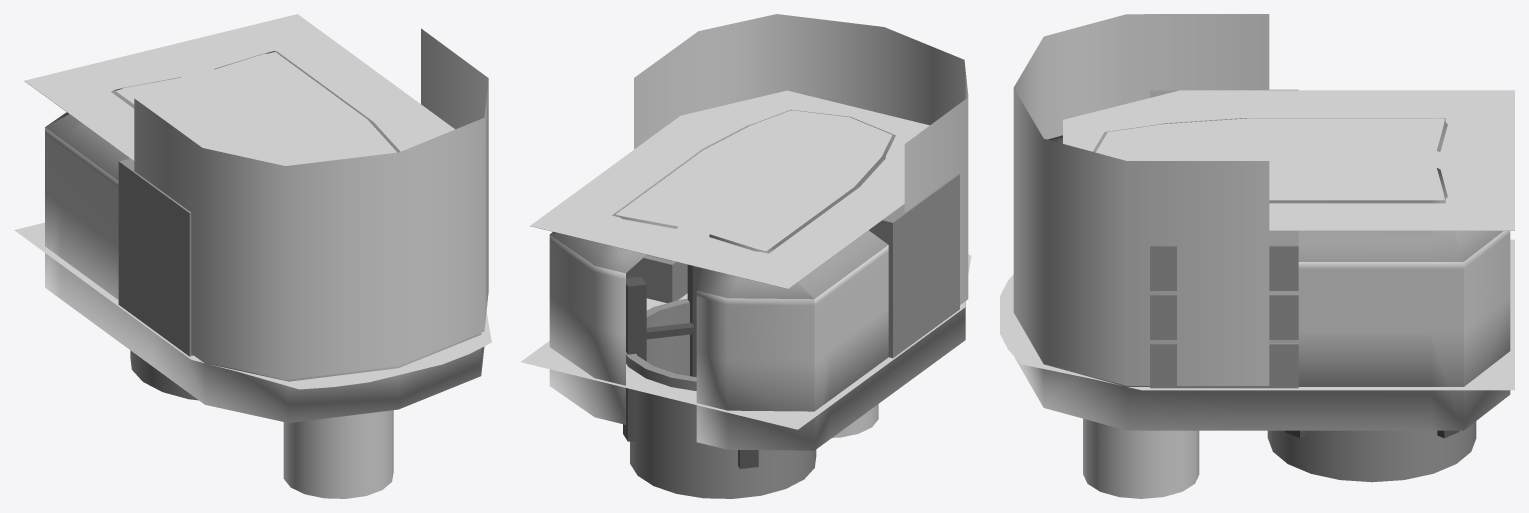
Rendered from SM_Cockpitv4.fbx.
3 views of the same model, side by side, from view 1: azimuth 30°, elevation 25°; view 2: azimuth 150°, elevation 25°; view 3: azimuth 270°, elevation 25° (orthographic). The views are drawn at different scales.
Visible parts, largest first — view 1: Window.001, Roof, Walls, Floor, Cube.043; view 2: Walls, Roof, Window.001, Floor, Cube.043, DroneLoader, Cube.037; view 3: Window.001, Walls, Roof, Floor, Cube.041, Cube.037, Cube.039.
Part boxes in pixels (x1=…): Window.001: x1=134, y1=28, x2=488, y2=379; Roof: x1=24, y1=14, x2=454, y2=165; Walls: x1=45, y1=51, x2=484, y2=422; Floor: x1=14, y1=222, x2=491, y2=498; Cube.043: x1=118, y1=158, x2=193, y2=356; Walls: x1=549, y1=109, x2=965, y2=450; Roof: x1=530, y1=90, x2=929, y2=288; Window.001: x1=634, y1=14, x2=968, y2=304; Floor: x1=521, y1=254, x2=971, y2=498; Cube.043: x1=869, y1=173, x2=959, y2=358; DroneLoader: x1=623, y1=265, x2=758, y2=468; Cube.037: x1=626, y1=255, x2=687, y2=303; Window.001: x1=1013, y1=14, x2=1269, y2=385; Walls: x1=1015, y1=118, x2=1510, y2=430; Roof: x1=1063, y1=90, x2=1514, y2=230; Floor: x1=1000, y1=239, x2=1514, y2=498; Cube.041: x1=1150, y1=231, x2=1298, y2=290; Cube.037: x1=1150, y1=343, x2=1298, y2=388; Cube.039: x1=1150, y1=294, x2=1298, y2=339.
Size of the model in its own units: 9.58 by 11.45 by 13.82.
2 materials, 2 textured.
